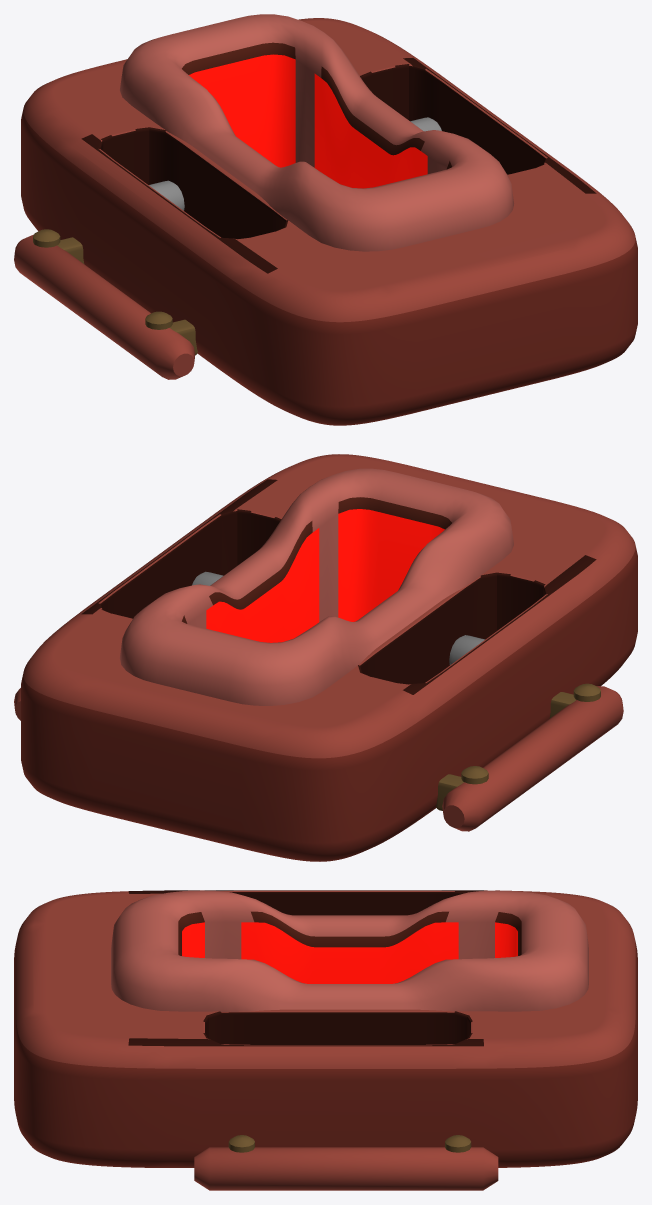
Rendered from red_furnace_273.glb.
The picture shows the model from 3 angles, top to bottom: view 1: azimuth 30°, elevation 25°; view 2: azimuth 150°, elevation 25°; view 3: azimuth 270°, elevation 25°; orthographic projection. The views are drawn at different scales.
Visible parts, largest first — view 1: housing, rim, rail1; view 2: housing, rim, rail1; view 3: housing, rim, rail-1.
Boxes of the visible parts, <box> form: housing: <box>21,18,637,425</box>; rim: <box>120,14,513,251</box>; rail1: <box>14,234,195,379</box>; housing: <box>21,454,637,861</box>; rim: <box>119,468,513,705</box>; rail1: <box>442,686,623,831</box>; housing: <box>14,890,637,1167</box>; rim: <box>111,890,588,1011</box>; rail-1: <box>194,1147,498,1190</box>.
Size of the model in its own units: 21.6 by 7.6 by 25.98.
